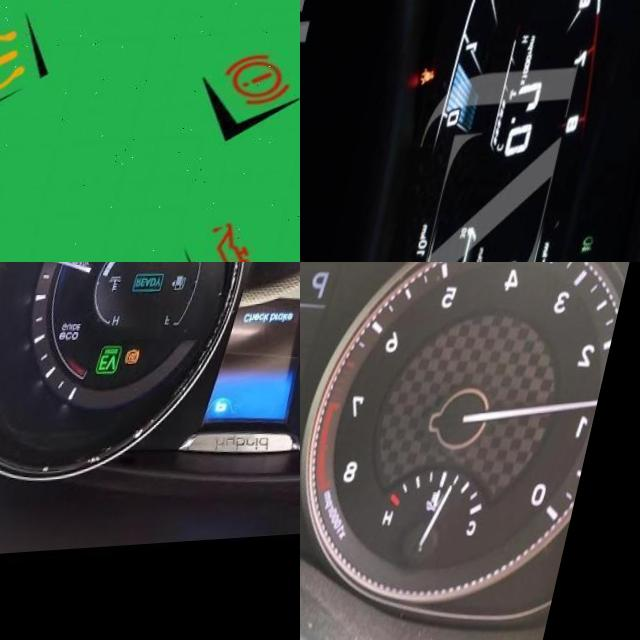Seat Belt: (423, 72, 442, 87)
